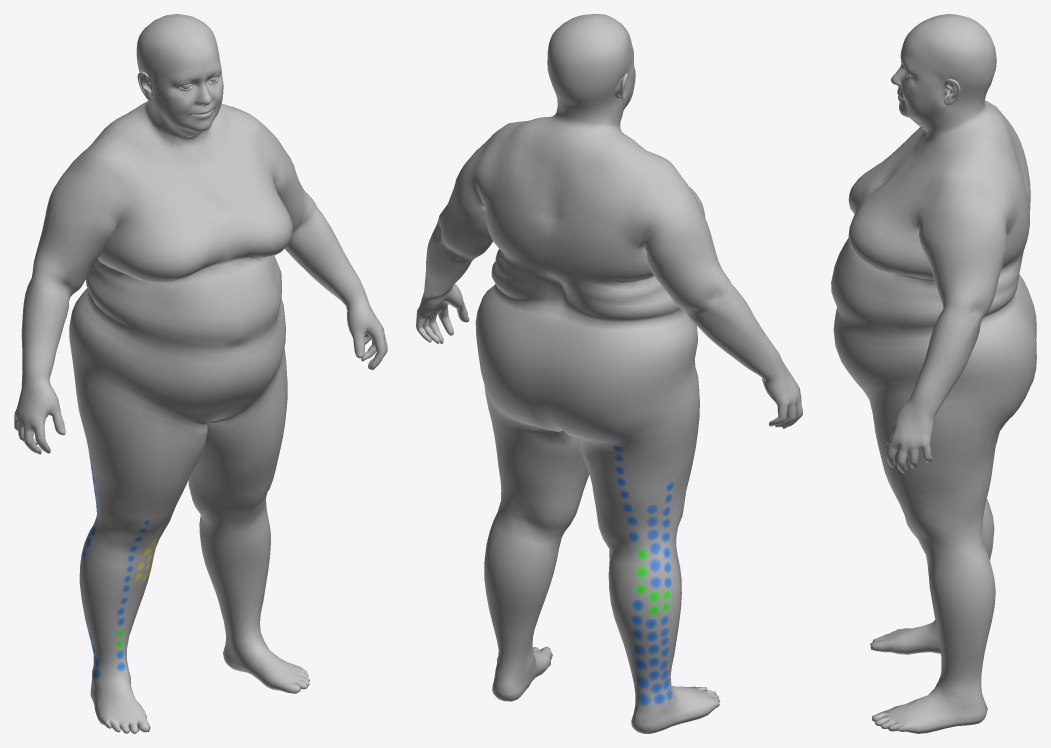
Rendered from 1135011-bent-all.gltf.
The picture shows the model from 3 angles, left to right: view 1: azimuth 30°, elevation 25°; view 2: azimuth 150°, elevation 25°; view 3: azimuth 270°, elevation 25°; orthographic projection. The views are drawn at different scales.
Parts seen in each view (by area): view 1: mc-Female_61in_250lbs-a-pose; view 2: mc-Female_61in_250lbs-a-pose; view 3: mc-Female_61in_250lbs-a-pose.
Boxes of the visible parts, x1,y1,x2,y2 form: mc-Female_61in_250lbs-a-pose: (14,14,387,733); mc-Female_61in_250lbs-a-pose: (416,14,802,733); mc-Female_61in_250lbs-a-pose: (831,14,1036,733).
Bounding box in the file's own units: 2.64 × 4.66 × 1.3.
Materials: 1 (1 with a texture image).
